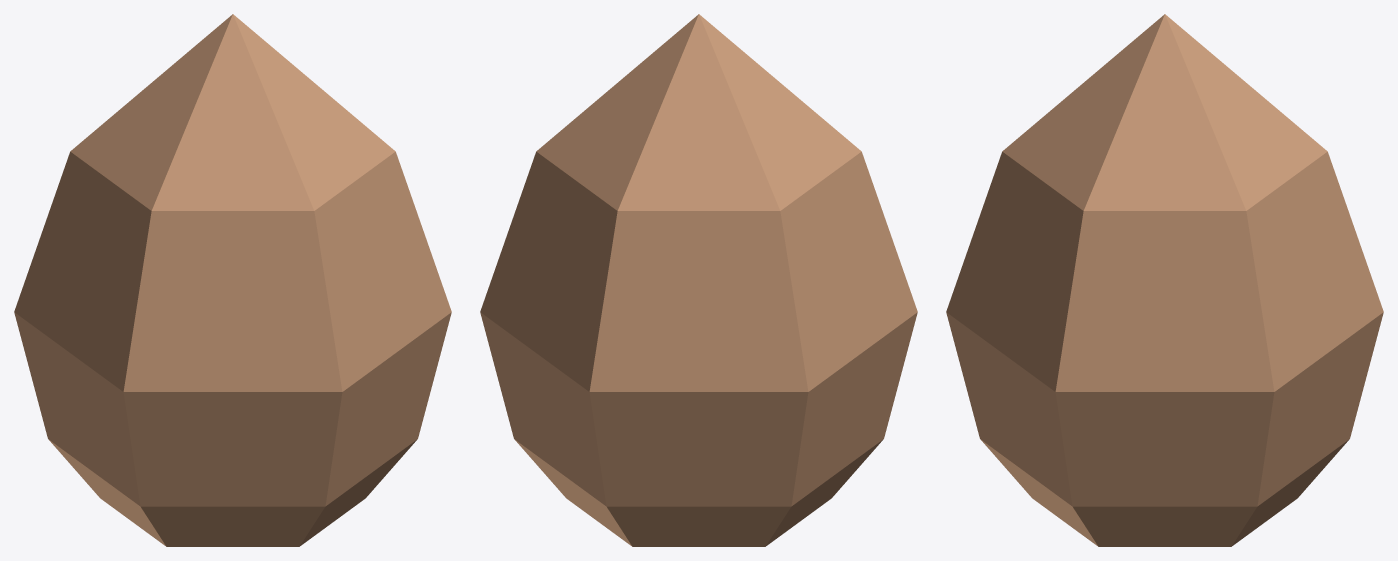
The model's file is Egg2.fbx.
3 renders of one model, left to right at view 1: azimuth 30°, elevation 25°; view 2: azimuth 150°, elevation 25°; view 3: azimuth 270°, elevation 25°, orthographic.
Parts seen in each view (by area): view 1: Cylinder; view 2: Cylinder; view 3: Cylinder.
Part boxes in pixels (x1,y1,x2,y2): Cylinder: (14, 14, 451, 546); Cylinder: (480, 14, 917, 546); Cylinder: (946, 14, 1383, 546).
Bounding box in the file's own units: 0.107 × 0.1632 × 0.1236.
